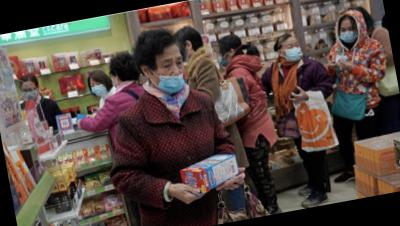mask_weared_incorrect: (148, 52, 189, 98)
with_mask: (338, 21, 362, 45), (282, 40, 305, 64), (20, 84, 41, 103), (217, 47, 233, 69), (90, 79, 106, 97)
